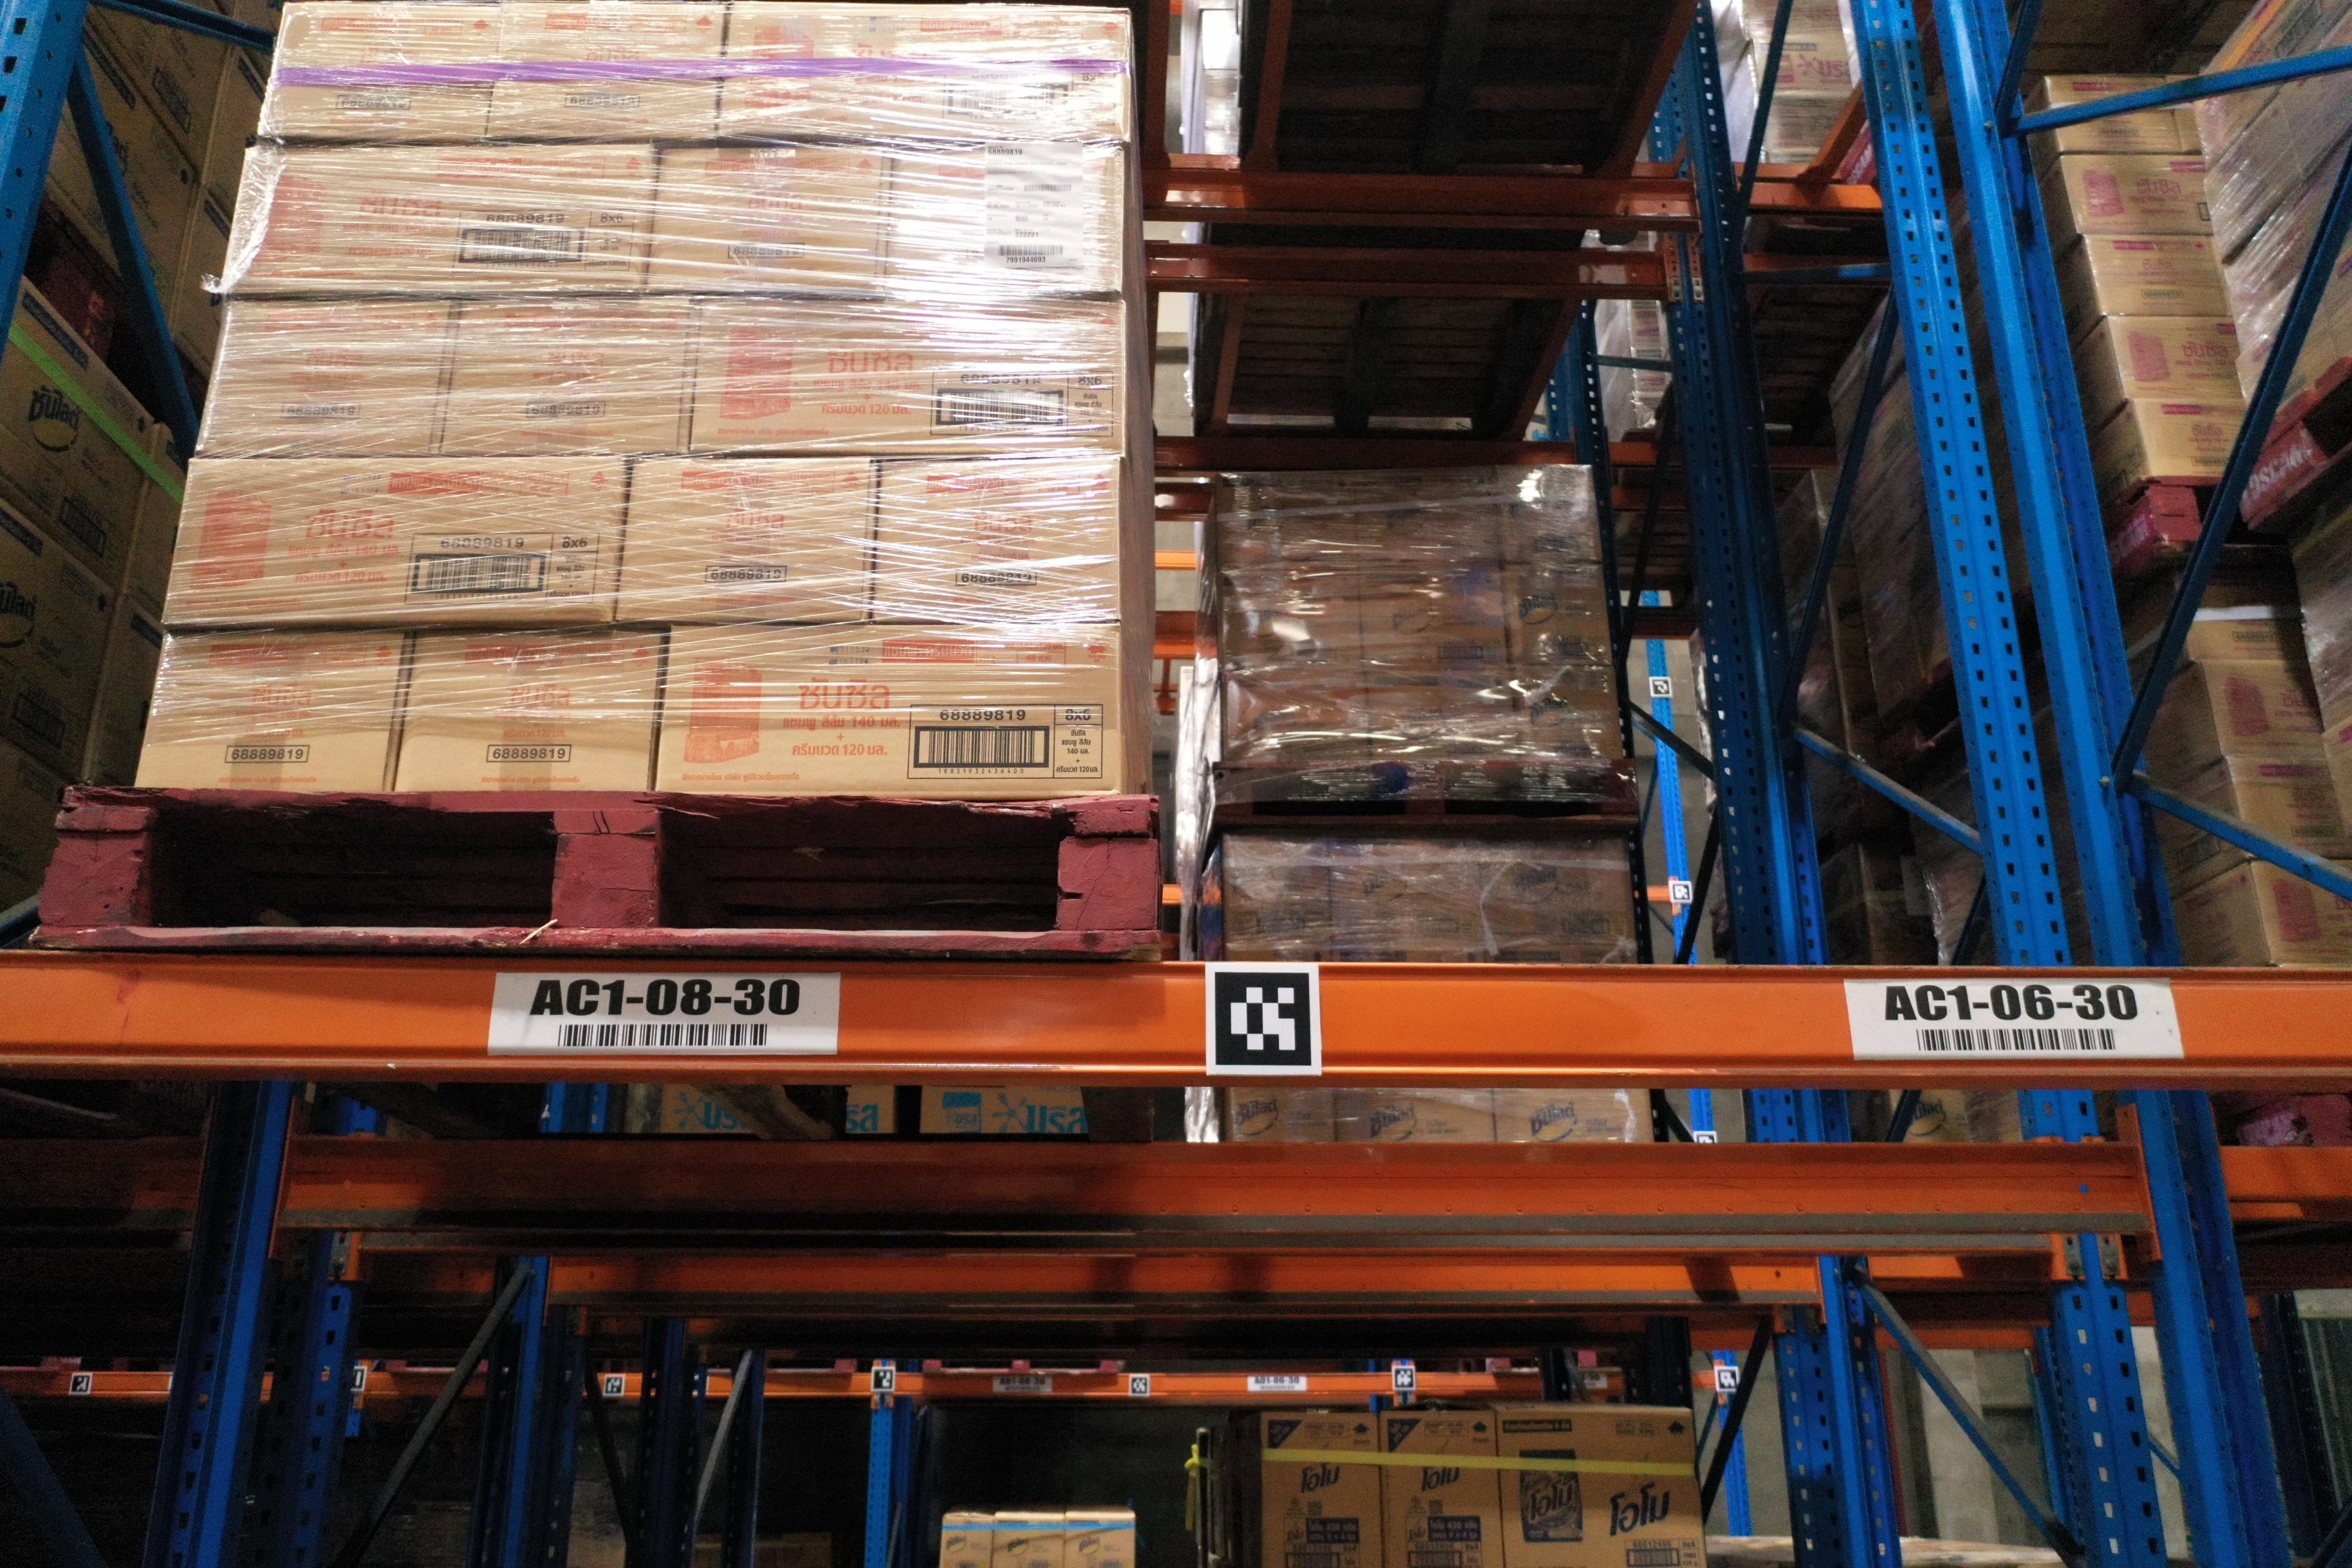-: (651, 616, 1118, 798), (163, 453, 628, 625), (688, 297, 1127, 460), (217, 140, 665, 297), (719, 2, 1132, 145), (390, 621, 670, 798), (131, 625, 415, 798), (612, 453, 882, 628), (432, 296, 700, 460), (189, 294, 458, 455), (873, 455, 1123, 623), (646, 143, 891, 303), (880, 145, 1125, 303), (252, 0, 507, 142)
2: (1498, 1410, 1706, 1568), (1260, 1410, 1386, 1568), (1325, 829, 1487, 950), (1381, 1412, 1507, 1568), (1477, 831, 1636, 950), (1360, 567, 1510, 675), (1367, 667, 1521, 766), (1221, 569, 1361, 677), (1216, 471, 1358, 574), (1356, 469, 1500, 570), (1227, 677, 1377, 768), (1223, 829, 1332, 950), (1501, 562, 1612, 670), (1514, 663, 1627, 763), (1494, 464, 1603, 565), (1340, 1088, 1494, 1146), (1491, 1090, 1650, 1144), (1227, 1087, 1337, 1148)
